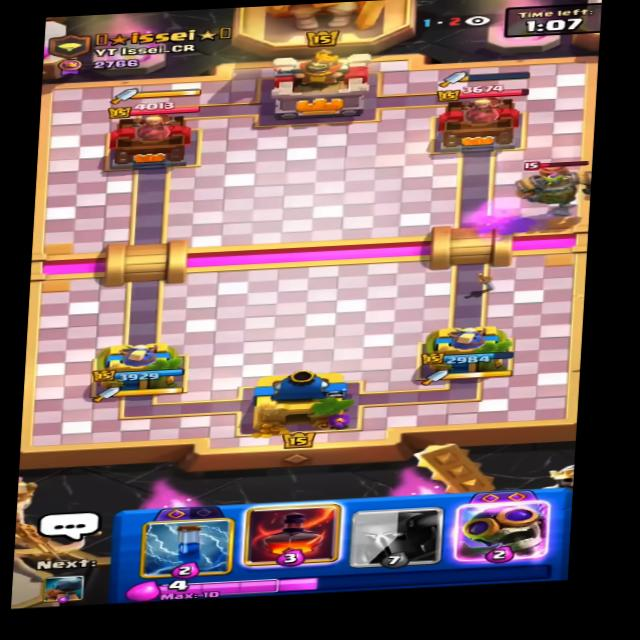goblin-machine: (514, 153, 601, 213)
